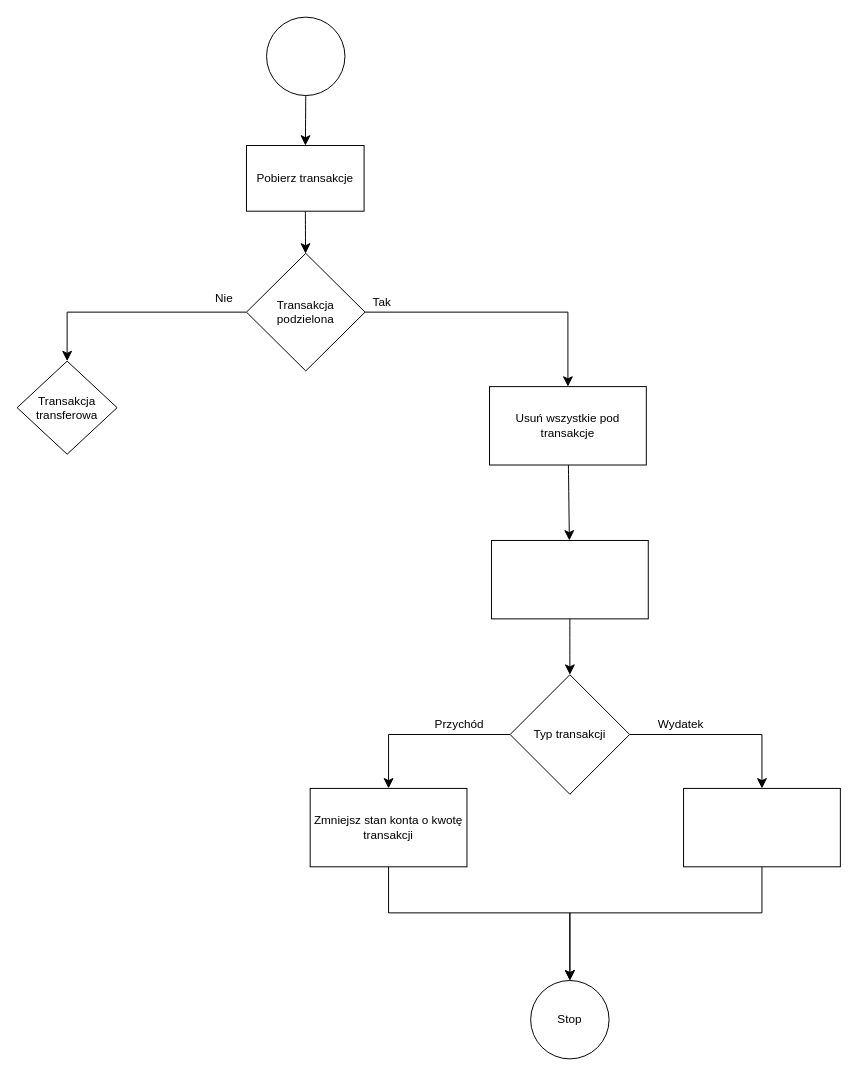
Some shapes in this 858 by 1076 pixel diagram are drawn without their labels. Each missing label, with the centre of its shape:
"Start" goes at point 305,56.
"Usuń transakcje" goes at point 569,579.
"Zwiększ stan konta o kwotę transakcji" goes at point 761,827.
